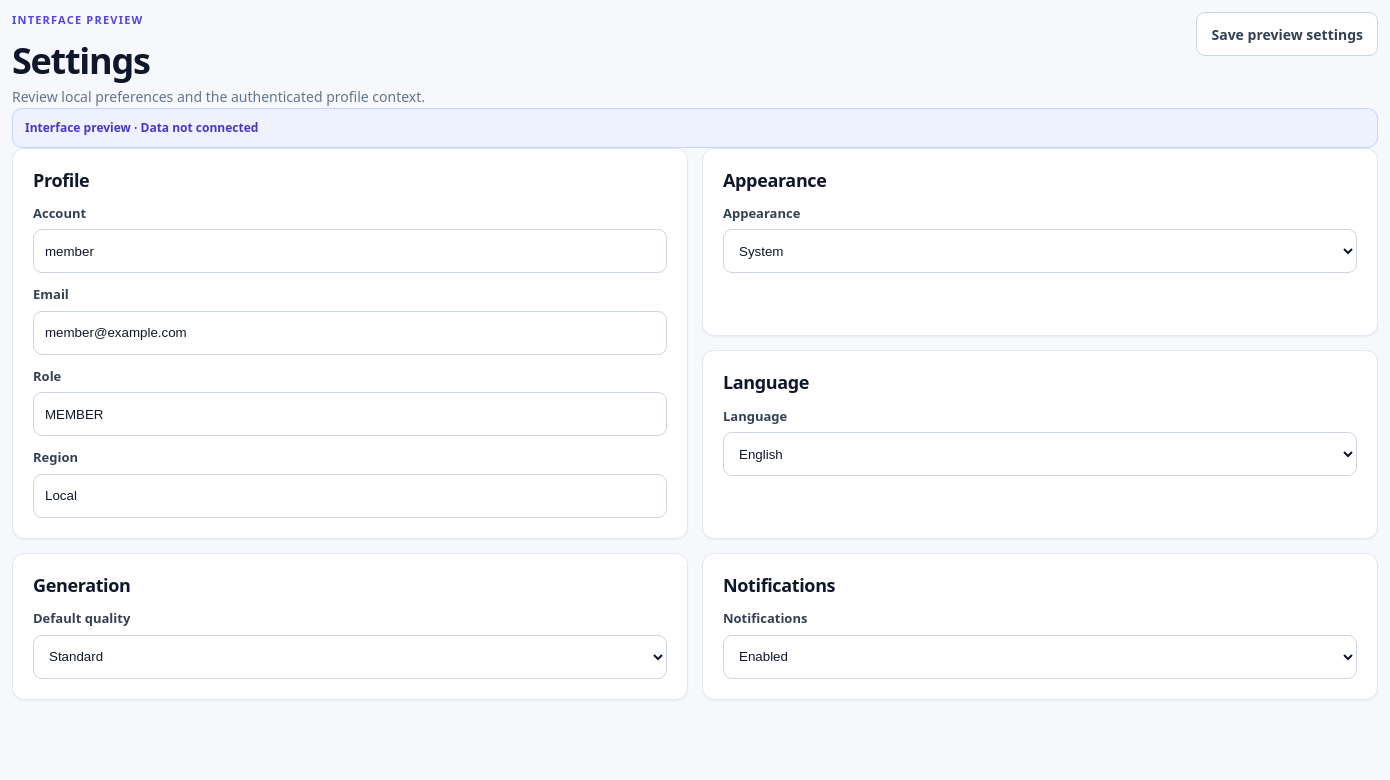
Test case: prototype pages › keeps Settings edits local while showing the real account profile
expect the heading "Profile" is shown: met, box [33,168,89,192]
expect the field labelled "Account" holds "member": met, box [33,230,667,274]
Select "Dark" in the dropdown labelled "Appearance": [1040, 252] box [723,230,1357,274]
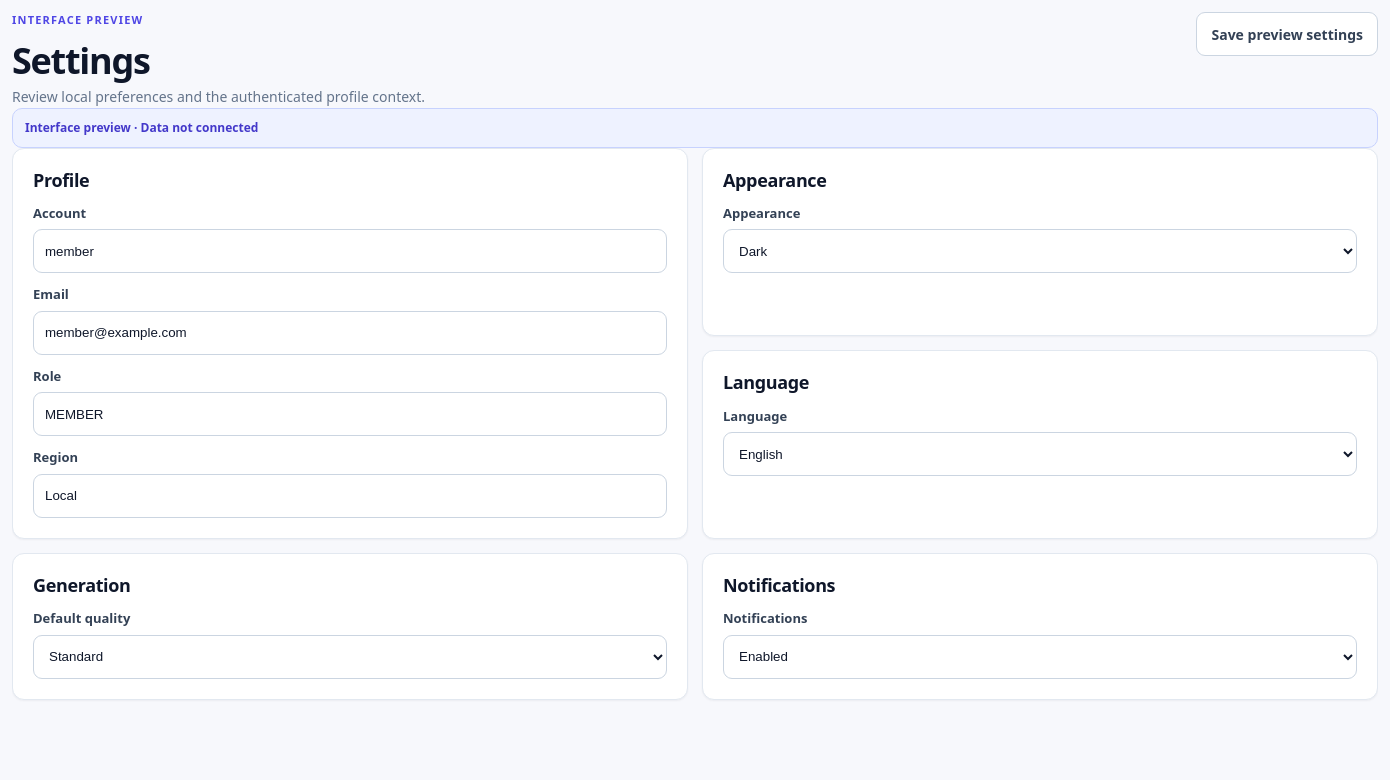
Select "High" in the dropdown labelled "Default quality": [350, 657] box [33,635,667,679]
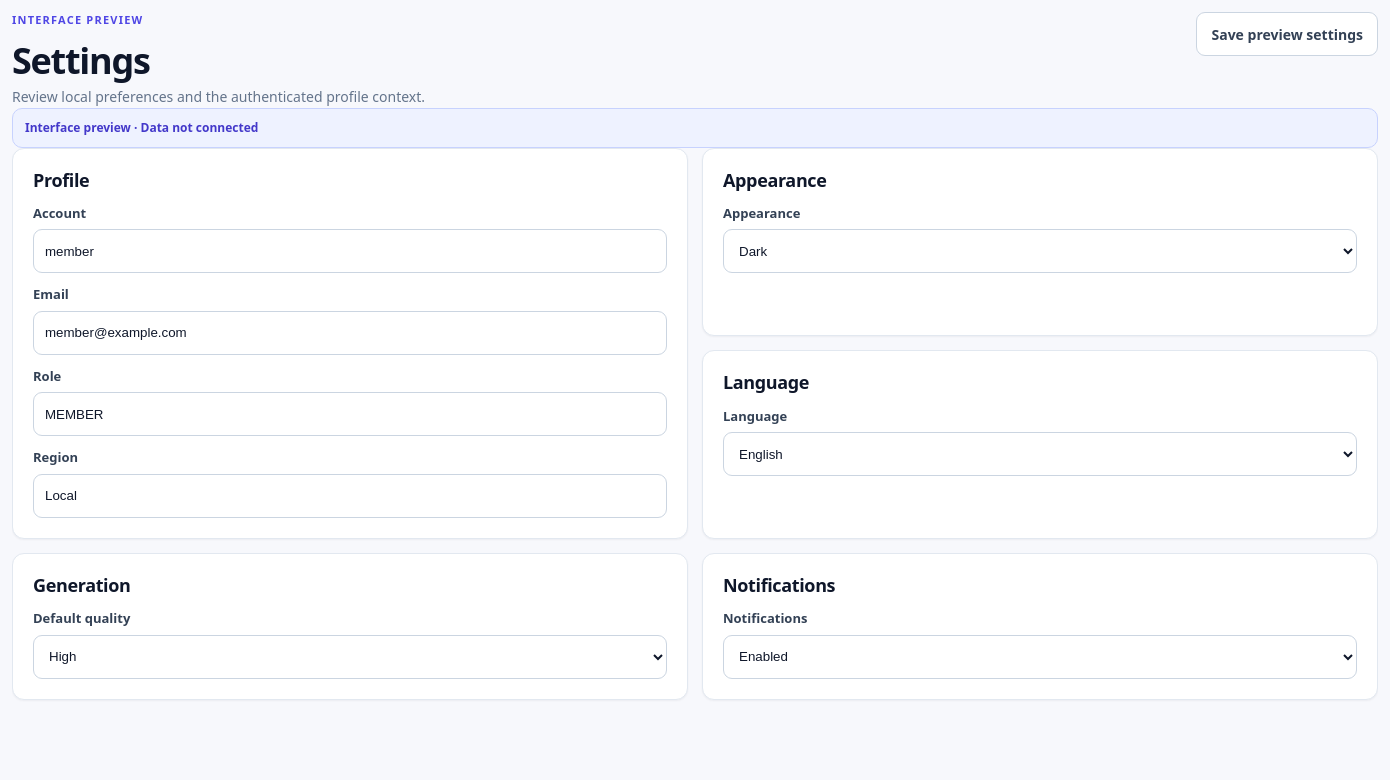
Select "Disabled" in the dropdown labelled "Notifications": [1040, 657] box [723,635,1357,679]
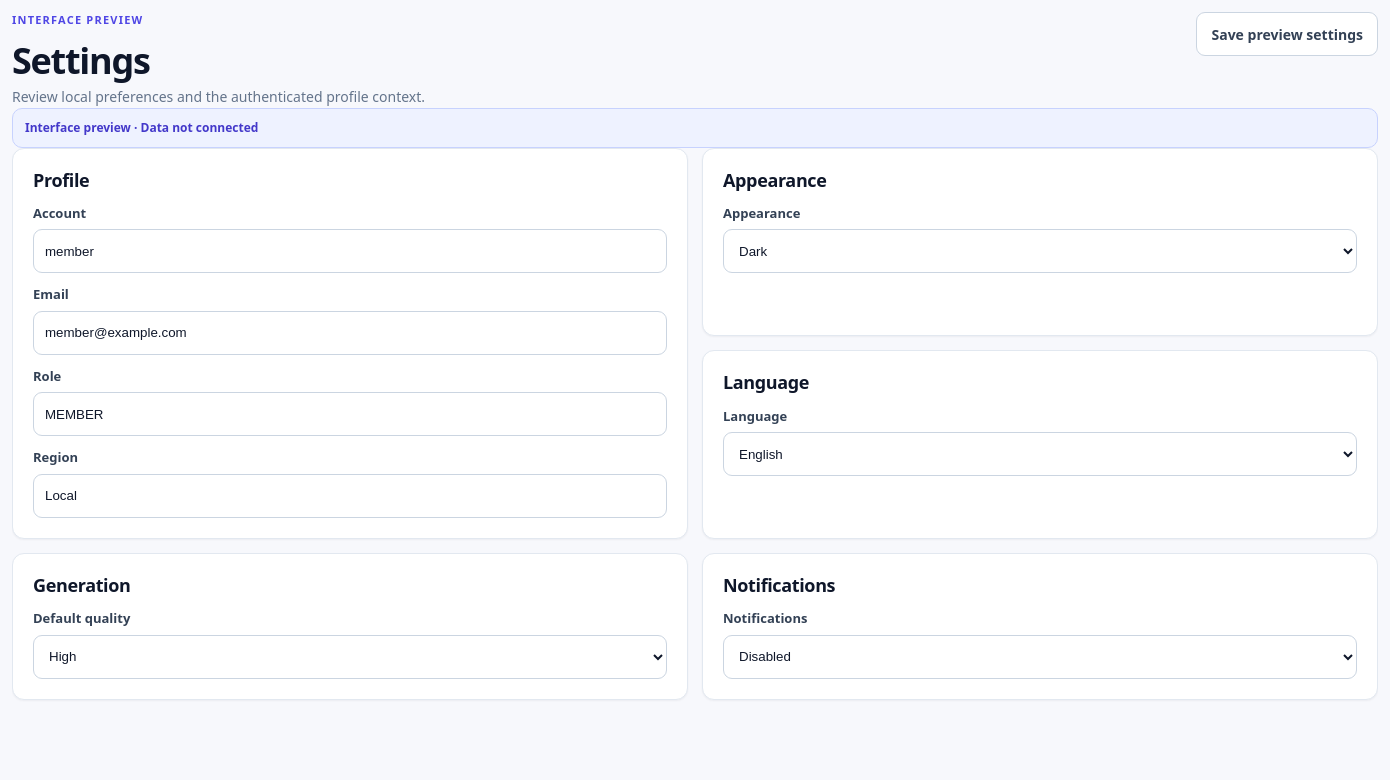
Select "中文" in the dropdown labelled "Language": [1040, 454] box [723,432,1357,476]
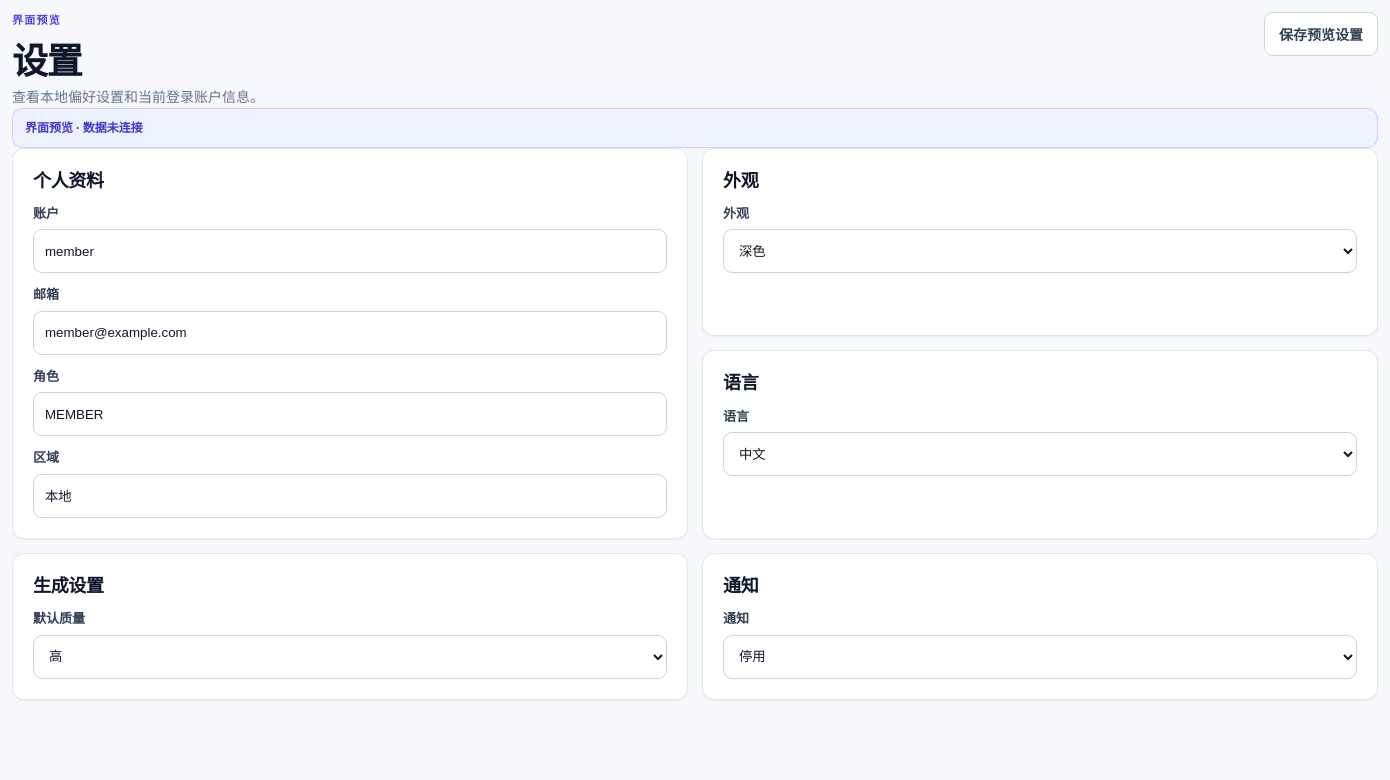
Click the button "保存预览设置": [1321, 34] box [1264,12,1378,56]
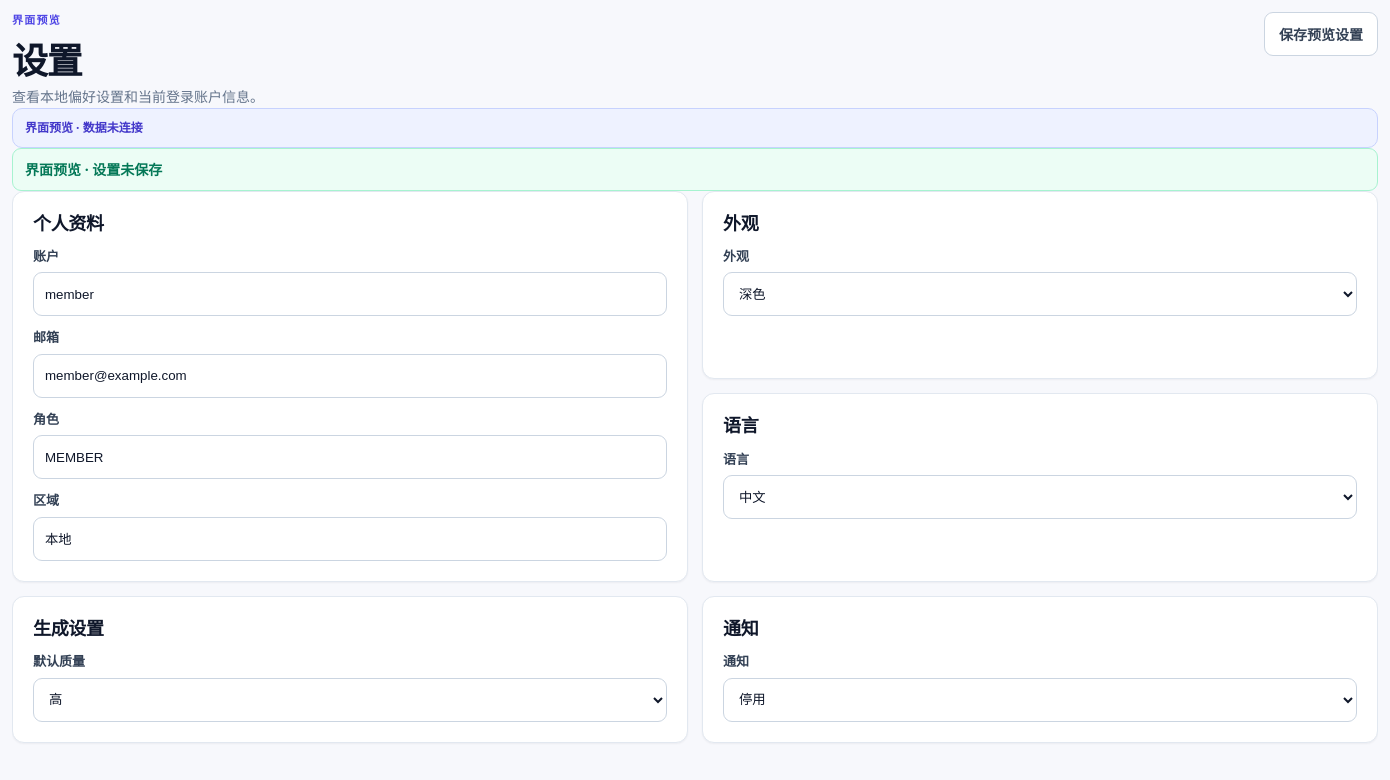
expect the message reads "界面预览 · 设置未保存": met, box [25,160,162,179]
